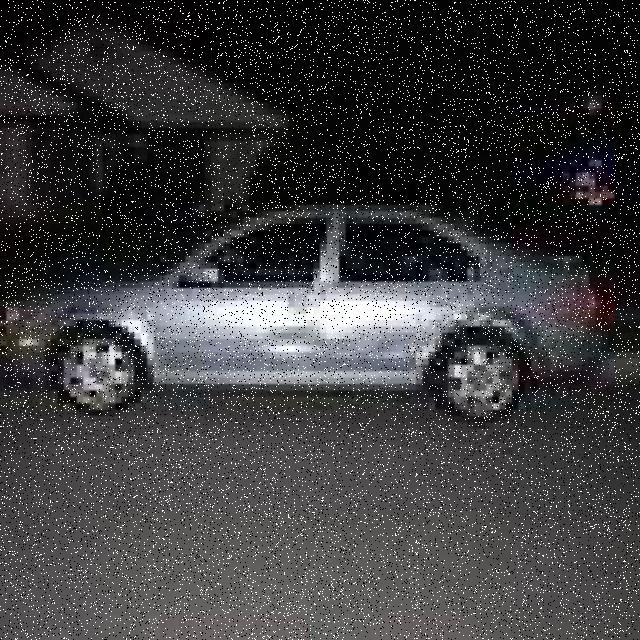doorouter-dent: (160, 288, 320, 378), (320, 282, 467, 372)
